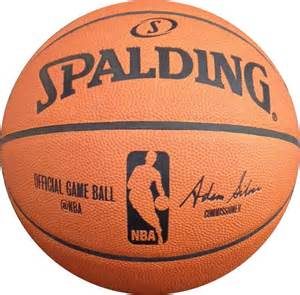basketball: (1, 1, 295, 295)
